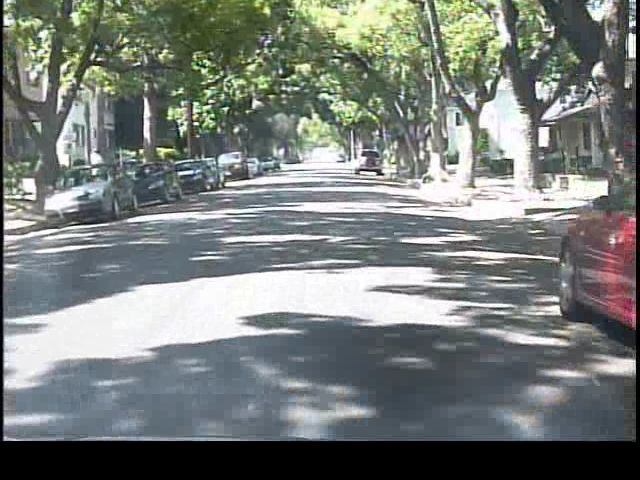person: (83, 144, 107, 196)
